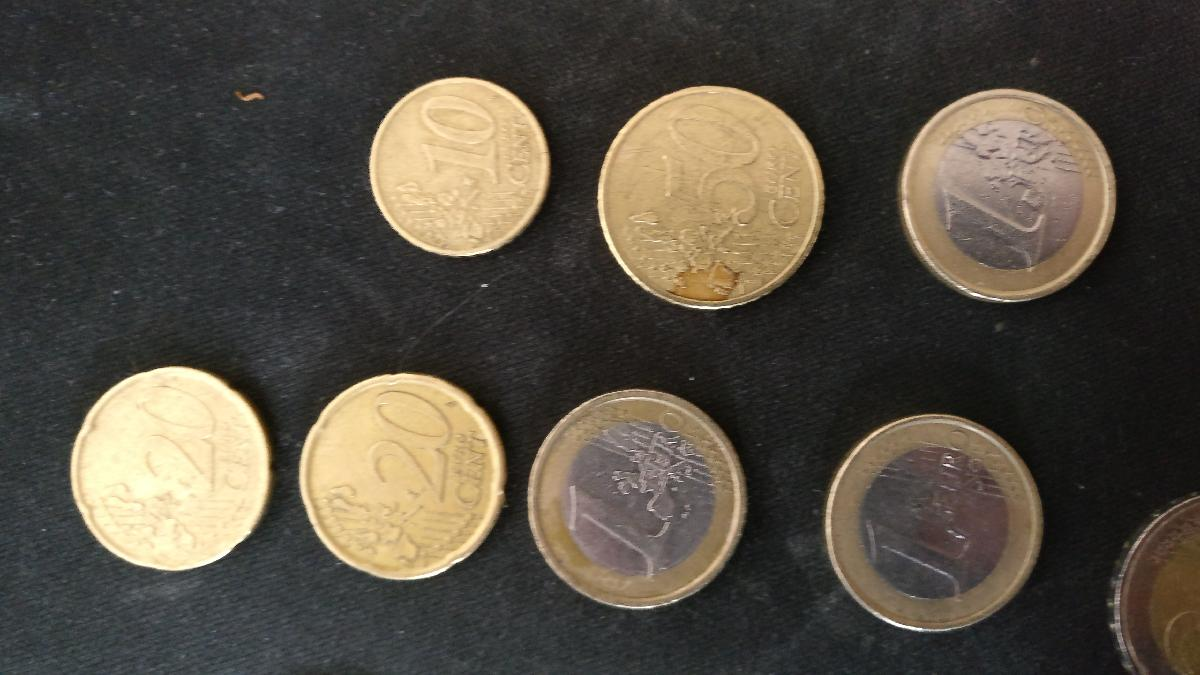Fifty Cent: (597, 81, 825, 309)
One Euro: (528, 386, 750, 611), (827, 413, 1045, 633), (900, 89, 1116, 301)
Ten Cent: (366, 77, 555, 259)
Twenty Cent: (298, 373, 510, 583), (69, 366, 272, 571)
Two Euro: (1107, 486, 1197, 675)
